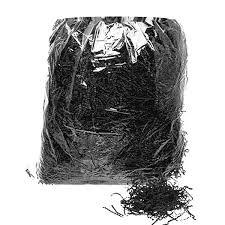Metal shavings: (26, 15, 211, 225)
